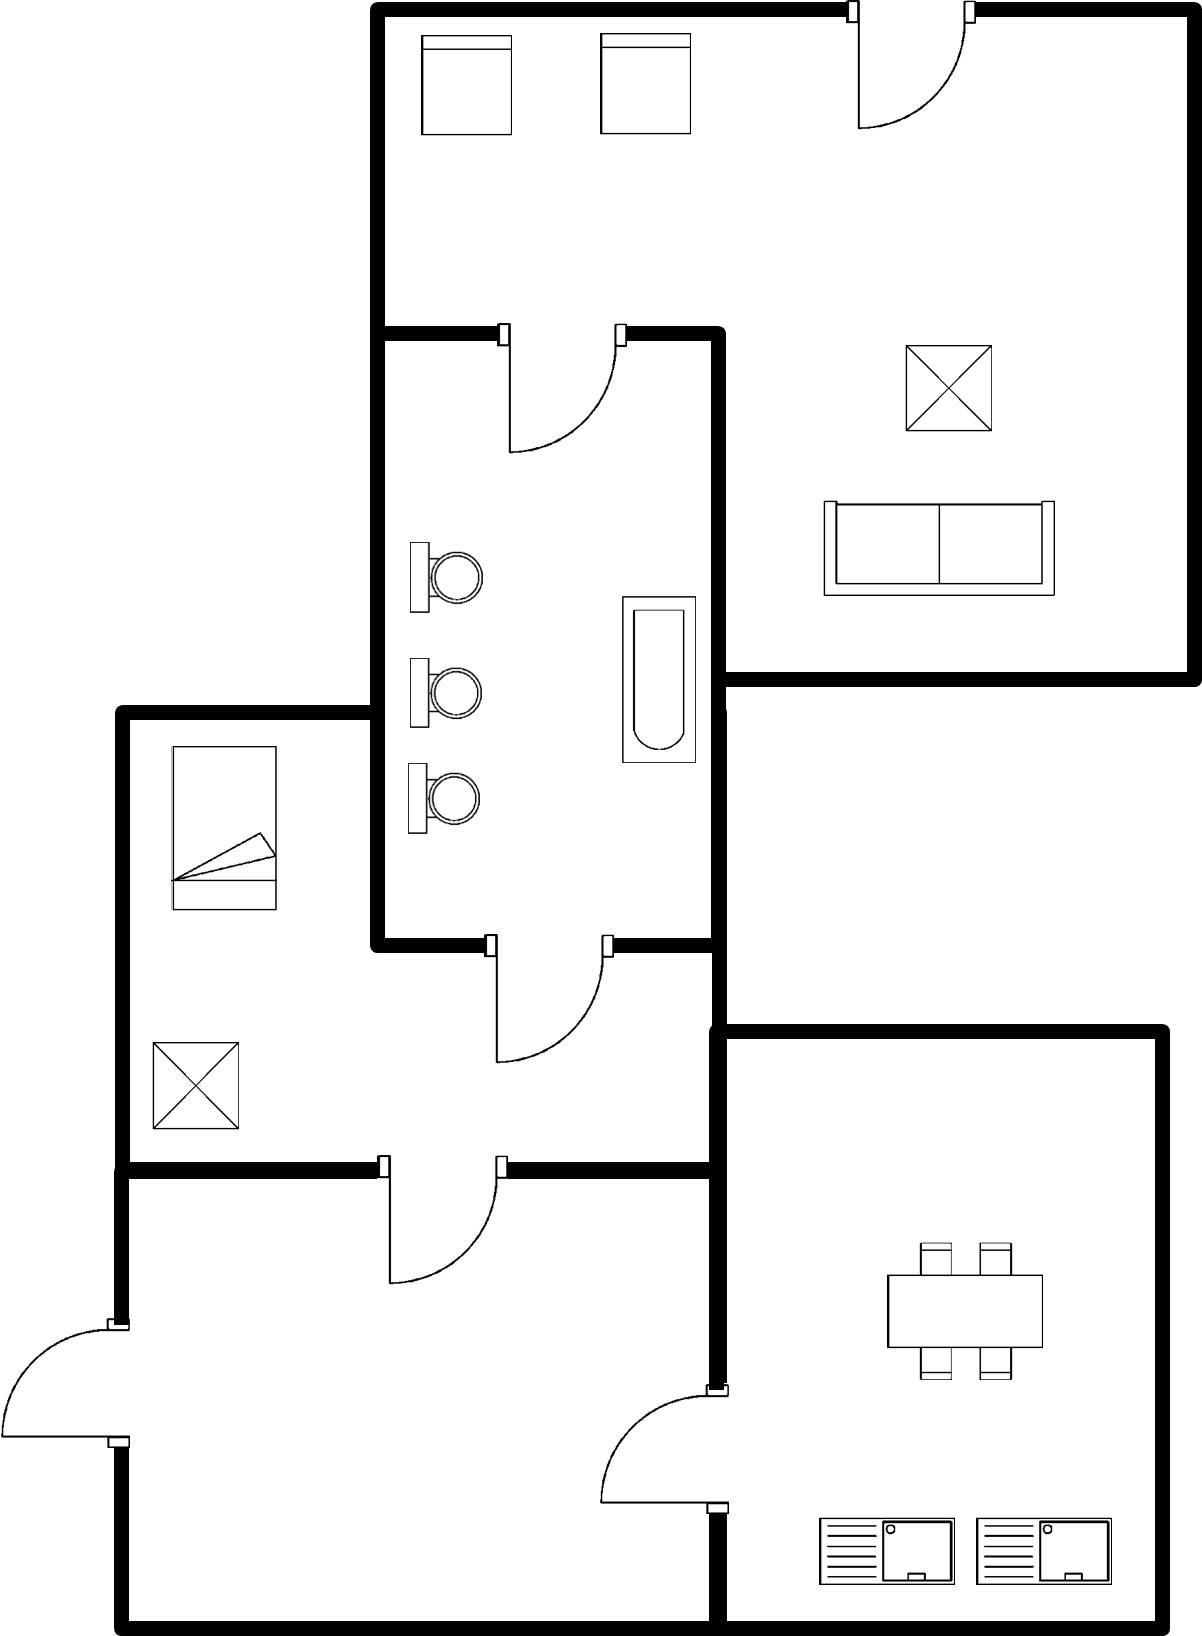bed: (162, 736, 285, 917)
coffee_table: (893, 335, 1006, 441), (142, 1035, 250, 1138)
dining_table: (876, 1233, 1055, 1392)
large_sink: (396, 530, 493, 628), (396, 755, 495, 847), (401, 649, 490, 741)
large_sofa: (811, 490, 1069, 609)
sink: (808, 1506, 965, 1600), (971, 1509, 1122, 1598)
small_sofa: (412, 23, 525, 147), (592, 23, 700, 149)
tub: (612, 584, 706, 774)
